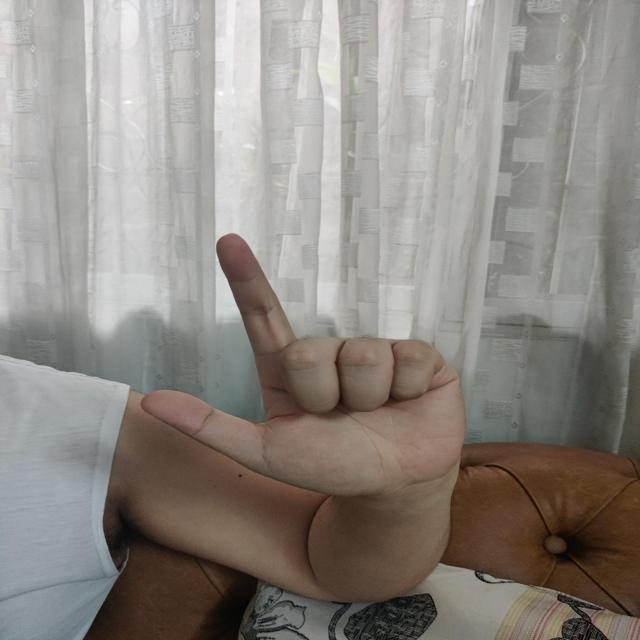L: (139, 231, 468, 496)
